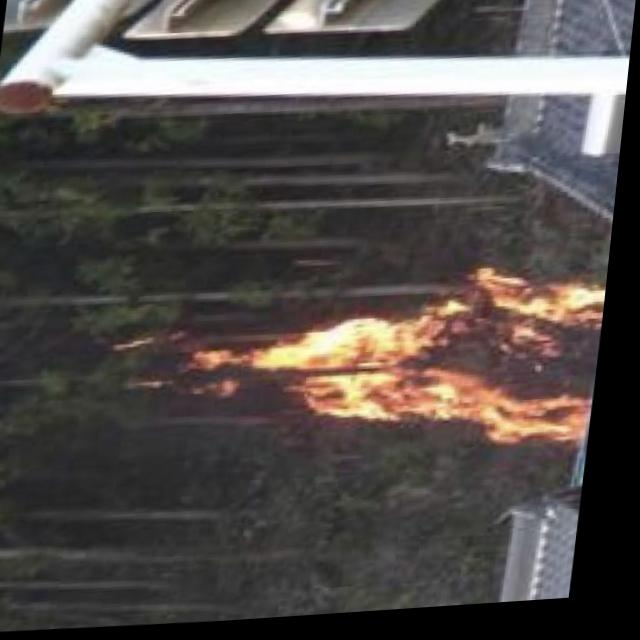Fire: (183, 271, 615, 469)
